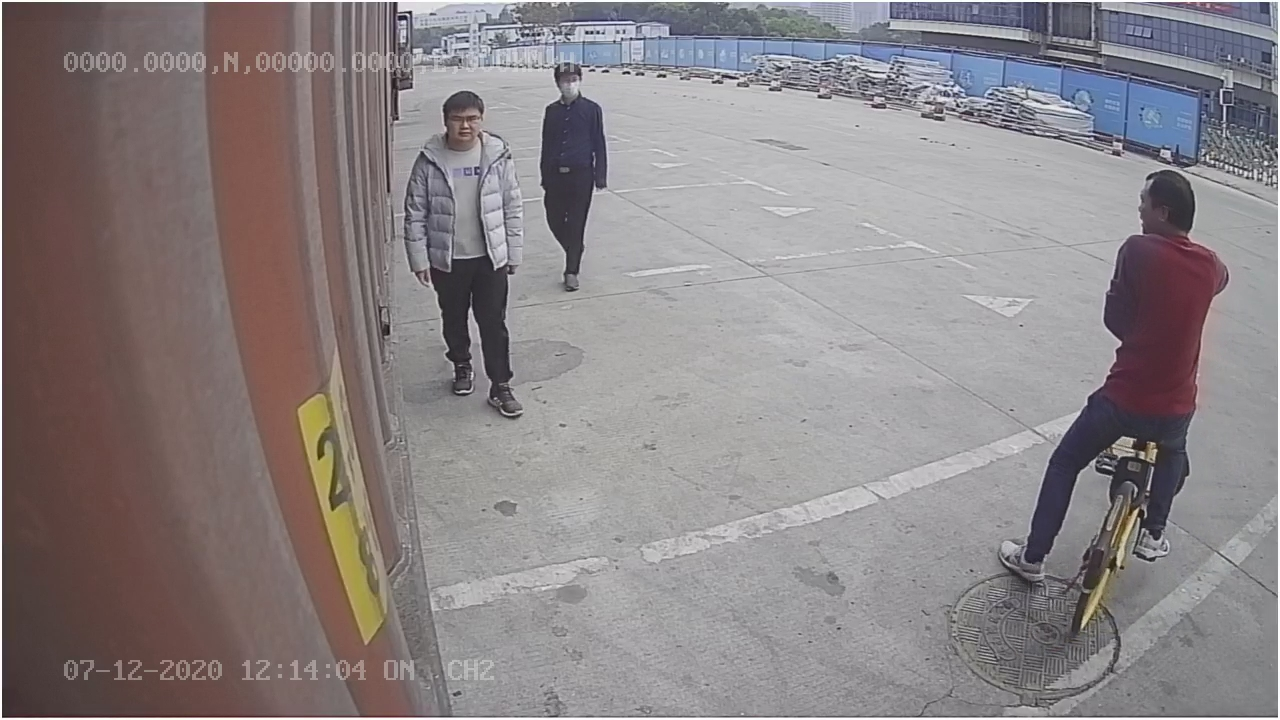person: (538, 63, 612, 293)
